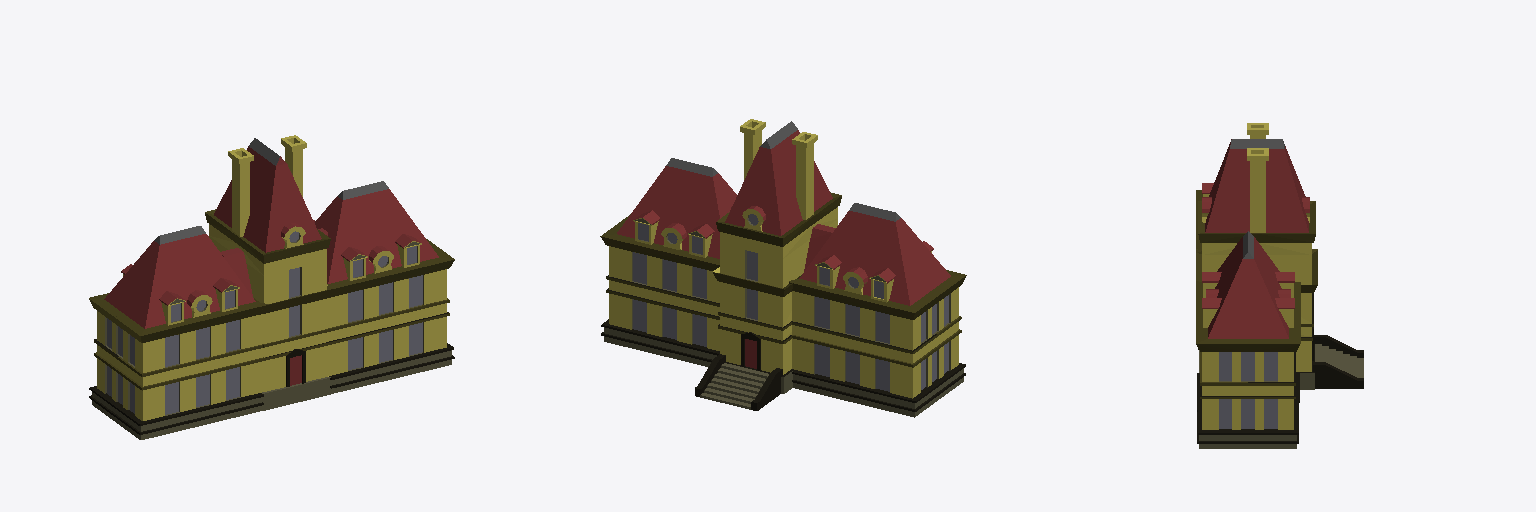
Rendered from Palace_West.obj.
The picture shows the model from 3 angles: view 1: azimuth 30°, elevation 25°; view 2: azimuth 150°, elevation 25°; view 3: azimuth 270°, elevation 25°; orthographic projection.
Parts seen in each view (by area): view 1: SM_Palace; view 2: SM_Palace; view 3: SM_Palace.
Boxes of the visible parts, x1=… form: SM_Palace: x1=89, y1=135, x2=454, y2=439; SM_Palace: x1=600, y1=119, x2=966, y2=417; SM_Palace: x1=1196, y1=123, x2=1363, y2=448.
Bounding box in the file's own units: 52.39 × 37.33 × 24.2.